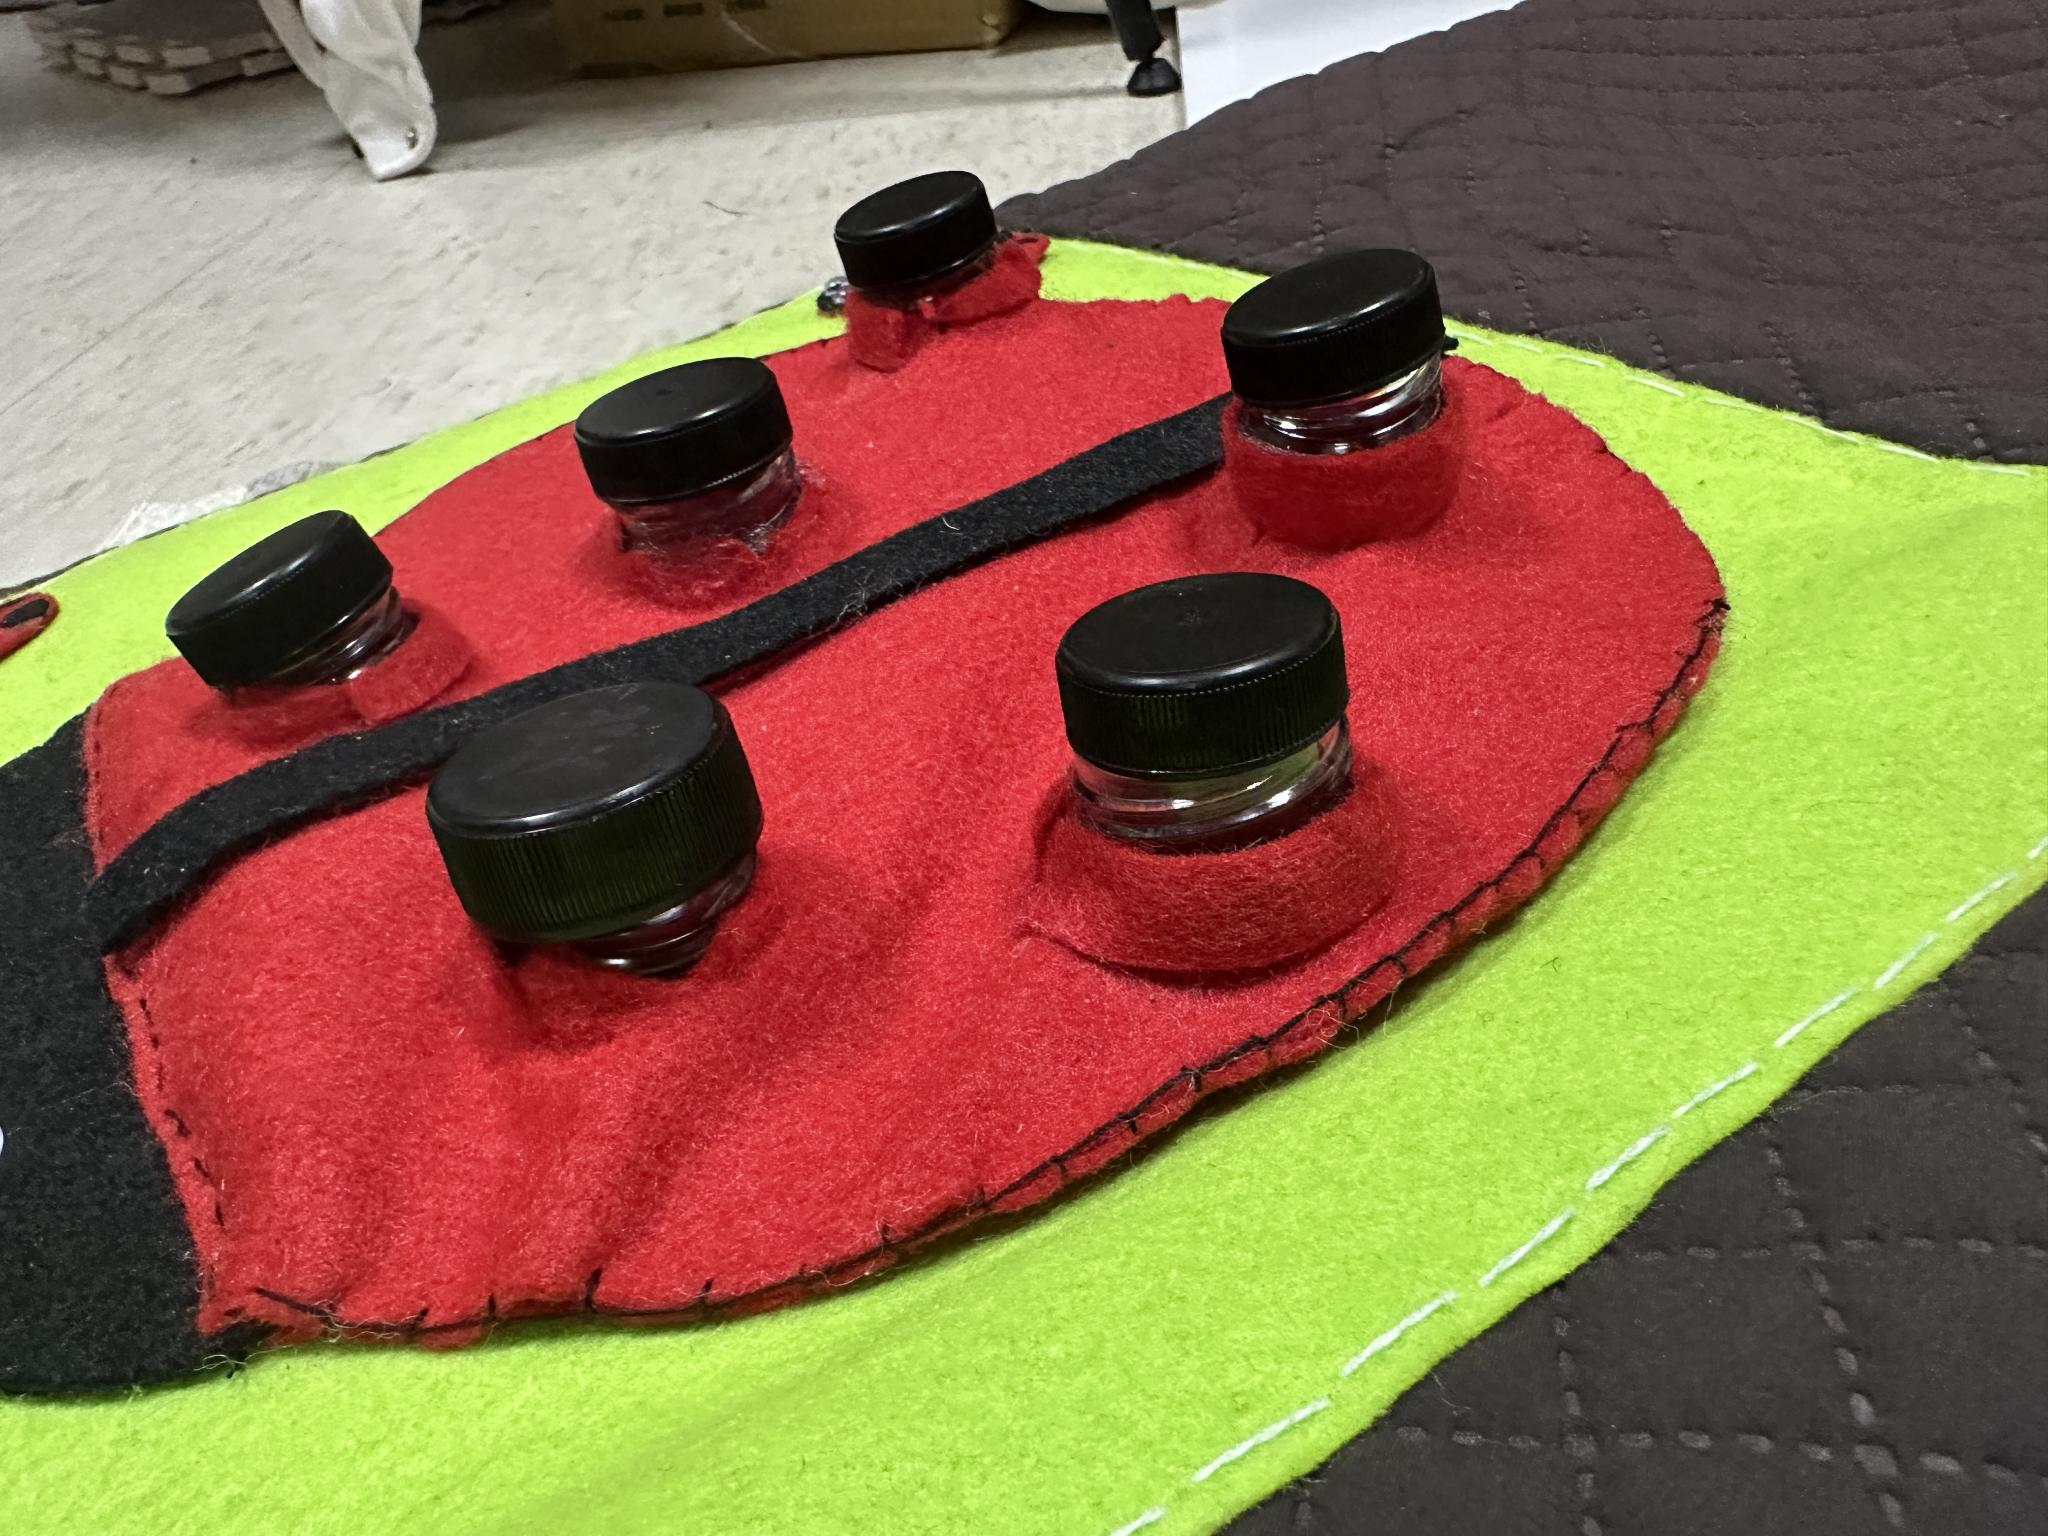cap_ng: (1006, 573, 1393, 971), (414, 671, 785, 999), (1184, 229, 1487, 541), (140, 499, 456, 742), (564, 352, 839, 582), (822, 150, 1051, 376)
